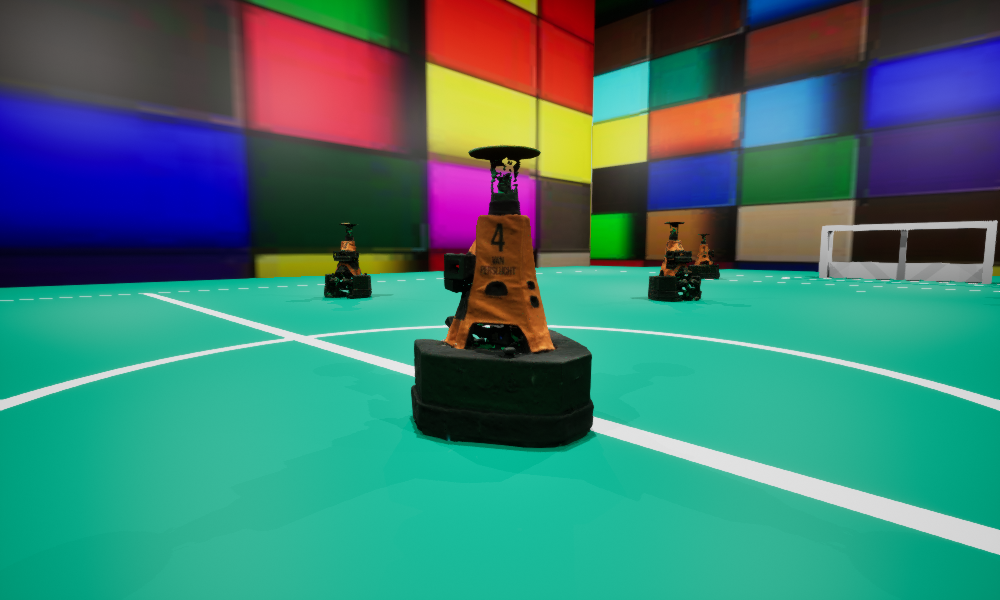o: (411, 145, 593, 447), (648, 222, 701, 301), (324, 223, 371, 297), (688, 234, 719, 278)
